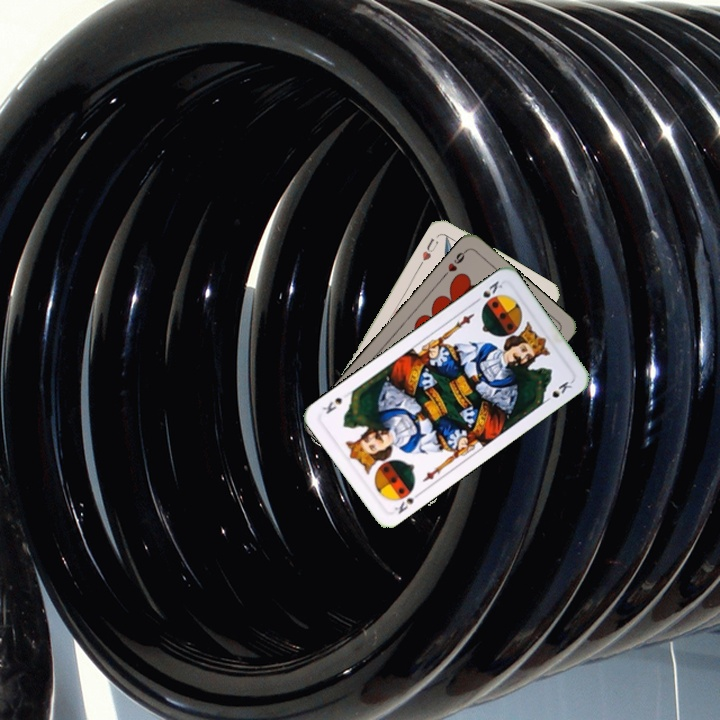H9: (439, 246, 470, 280)
HU: (416, 234, 441, 268)
SK: (390, 487, 424, 517), (470, 277, 505, 306)
